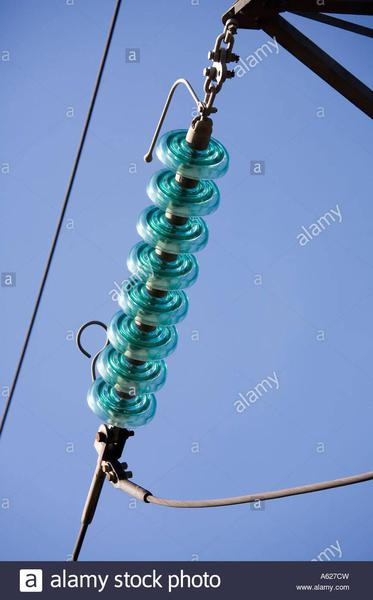isolator: (84, 128, 231, 429)
